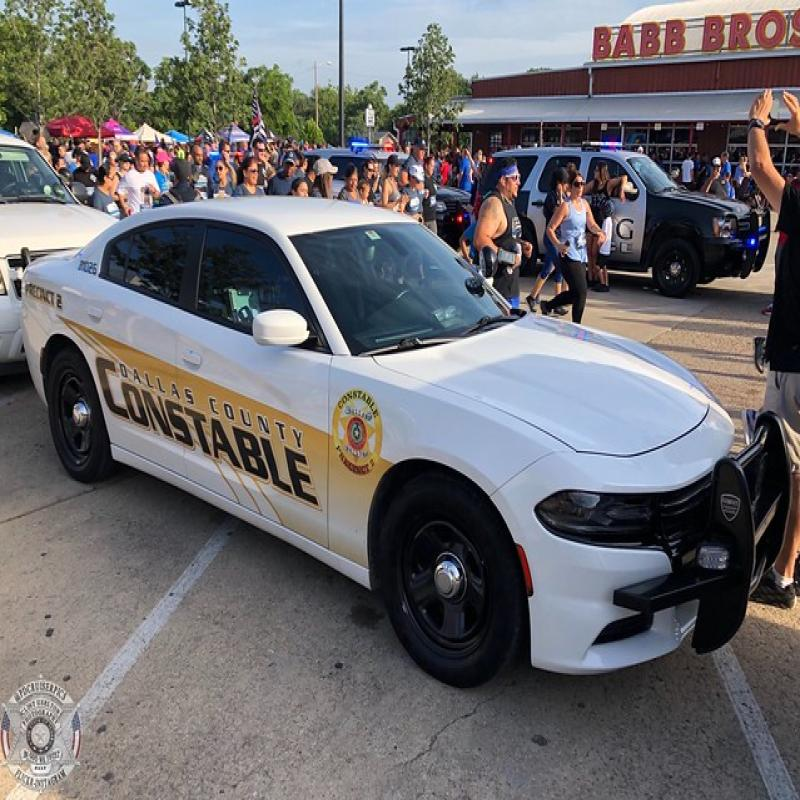AmbulanceSiren: (345, 136, 399, 151)
